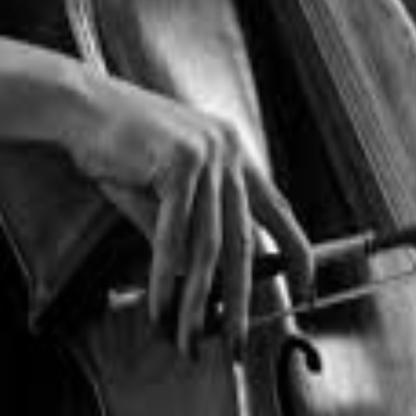bad: (132, 71, 322, 369)
